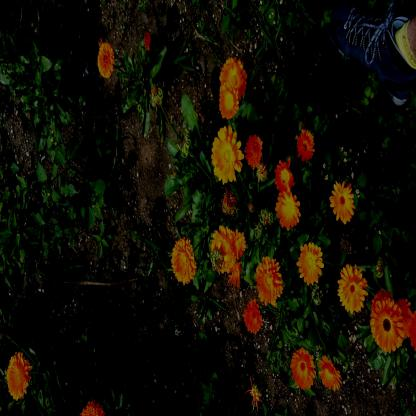marigold: (372, 293, 404, 352), (212, 127, 242, 182), (338, 266, 367, 311), (256, 258, 282, 303), (212, 226, 235, 272), (221, 60, 247, 100), (172, 238, 194, 284), (8, 355, 30, 398), (292, 349, 315, 390), (332, 180, 353, 224), (299, 244, 322, 284), (277, 190, 300, 229), (219, 84, 239, 118), (320, 356, 340, 390), (275, 160, 295, 192), (244, 300, 262, 334), (98, 42, 113, 78), (298, 131, 314, 162), (246, 134, 261, 167), (233, 230, 244, 258)
